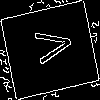V: (25, 25, 74, 67)
